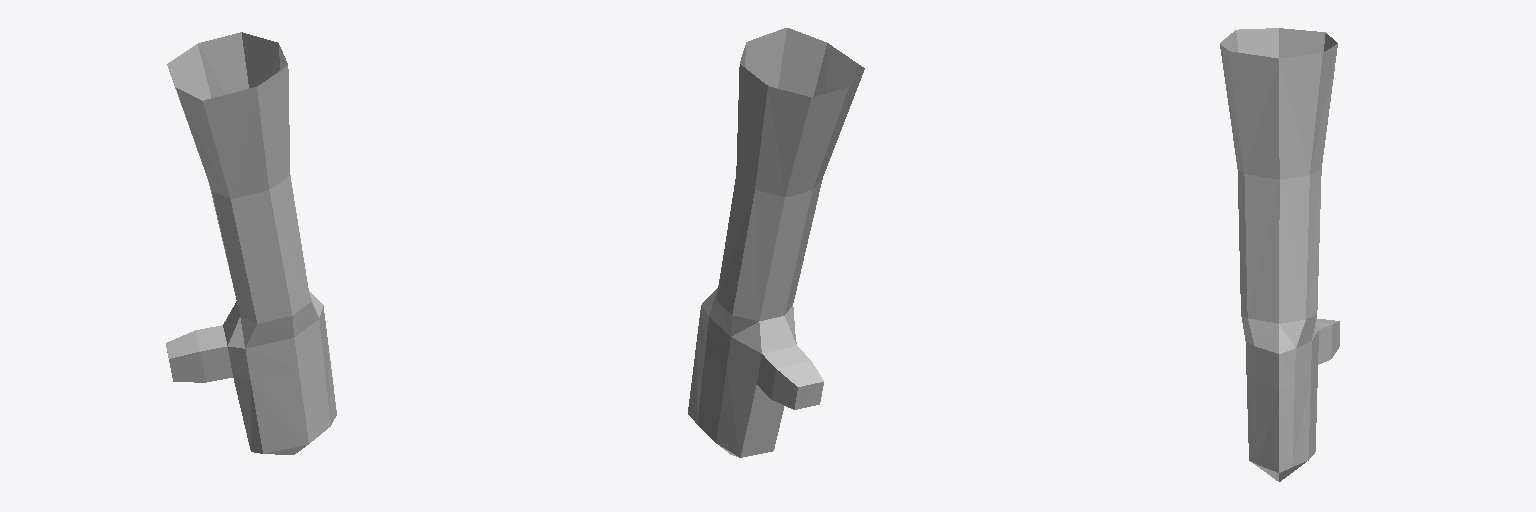
File: lowerLarm.obj
3 renders of one model, left to right at view 1: azimuth 30°, elevation 25°; view 2: azimuth 150°, elevation 25°; view 3: azimuth 270°, elevation 25°, orthographic.
Visible parts, largest first — view 1: lowerLarm_Cube.004; view 2: lowerLarm_Cube.004; view 3: lowerLarm_Cube.004.
Part boxes in pixels (bbox=[...]): lowerLarm_Cube.004: bbox=[166, 32, 336, 454]; lowerLarm_Cube.004: bbox=[688, 28, 864, 457]; lowerLarm_Cube.004: bbox=[1220, 28, 1339, 481].
Size of the model in its own units: 0.4242 by 1.05 by 0.2746.